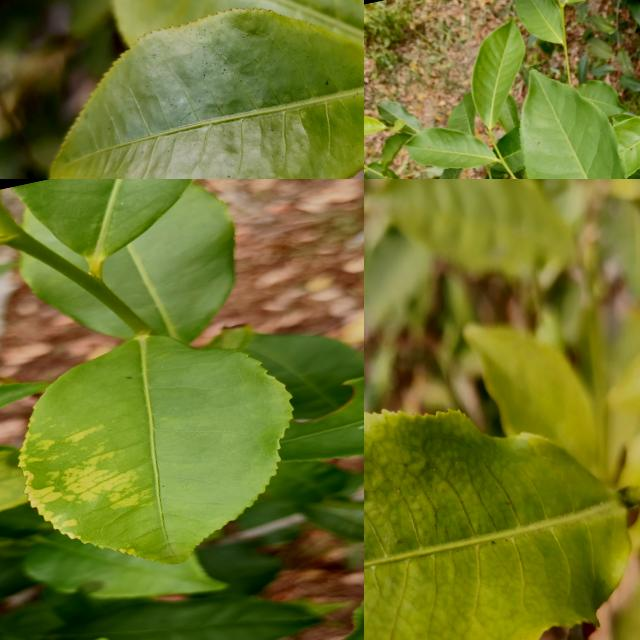Leaf: (20, 335, 291, 564), (364, 410, 630, 640), (51, 9, 364, 179), (103, 185, 234, 343), (463, 324, 596, 473), (376, 179, 574, 276), (13, 179, 192, 276), (24, 531, 225, 598), (46, 594, 320, 640), (520, 70, 628, 179), (241, 333, 364, 419), (21, 256, 130, 339), (279, 377, 364, 461), (364, 228, 432, 330), (471, 19, 525, 129), (585, 558, 640, 640), (405, 127, 496, 168), (301, 500, 364, 541), (25, 214, 77, 262), (515, 0, 563, 43), (608, 352, 640, 414), (575, 80, 625, 115), (377, 101, 422, 134), (497, 126, 524, 172), (447, 91, 475, 134), (381, 132, 411, 167), (364, 161, 399, 179), (590, 38, 614, 59), (364, 116, 386, 135), (619, 74, 640, 91), (578, 52, 589, 84), (627, 0, 640, 24), (439, 167, 462, 179)
